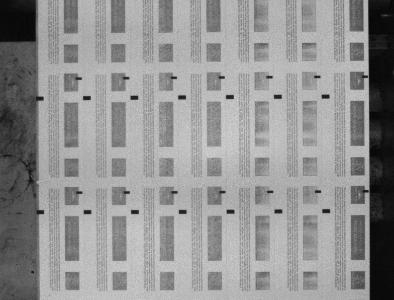backgroundclutter: (31, 270, 35, 273)
qblock: (130, 95, 139, 100), (274, 94, 282, 99), (36, 96, 44, 101), (179, 209, 187, 214), (227, 209, 235, 214), (322, 209, 331, 213), (178, 95, 186, 99), (36, 210, 44, 214), (226, 95, 234, 99), (84, 210, 92, 214), (83, 96, 91, 100), (322, 94, 330, 98), (131, 210, 139, 214), (275, 209, 283, 213)
smallqblock: (220, 190, 226, 194), (267, 75, 273, 79), (267, 190, 274, 193), (363, 190, 370, 193), (76, 191, 83, 194), (75, 77, 82, 80), (123, 76, 130, 79), (315, 190, 322, 193), (219, 76, 225, 79), (124, 191, 130, 194), (171, 76, 177, 79), (172, 191, 178, 194), (363, 75, 369, 78), (315, 75, 321, 78)
